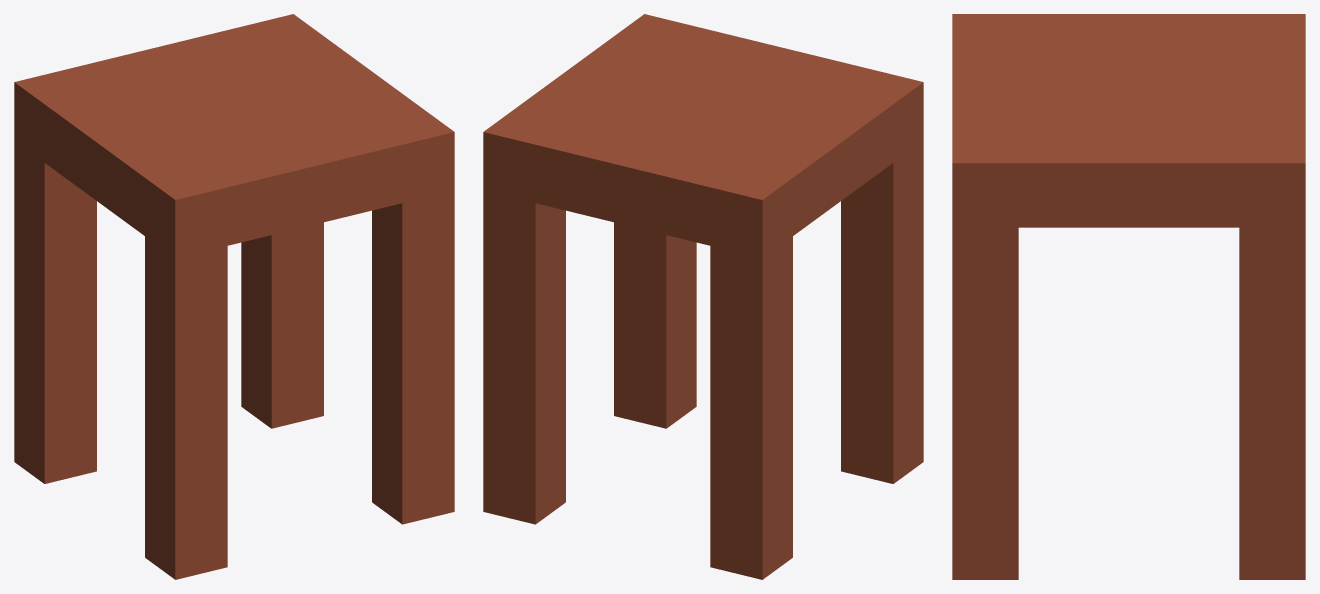
Rendered from side_table.fbx.
3 renders of one model, left to right at view 1: azimuth 30°, elevation 25°; view 2: azimuth 150°, elevation 25°; view 3: azimuth 270°, elevation 25°, orthographic. The views are drawn at different scales.
Parts seen in each view (by area): view 1: pCube1; view 2: pCube1; view 3: pCube1.
Part boxes in pixels (x1,y1,x2,y2): pCube1: (14,14,454,579); pCube1: (483,14,923,579); pCube1: (952,14,1305,579).
Bounding box in the file's own units: 6.25 × 8.12 × 6.25.
Materials: 1 (1 with a texture image).
